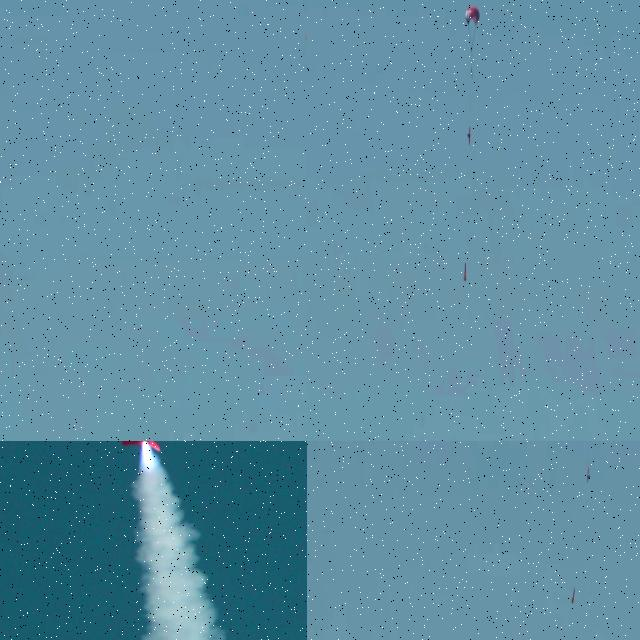Rocket: (570, 587, 576, 604), (464, 263, 466, 281)
